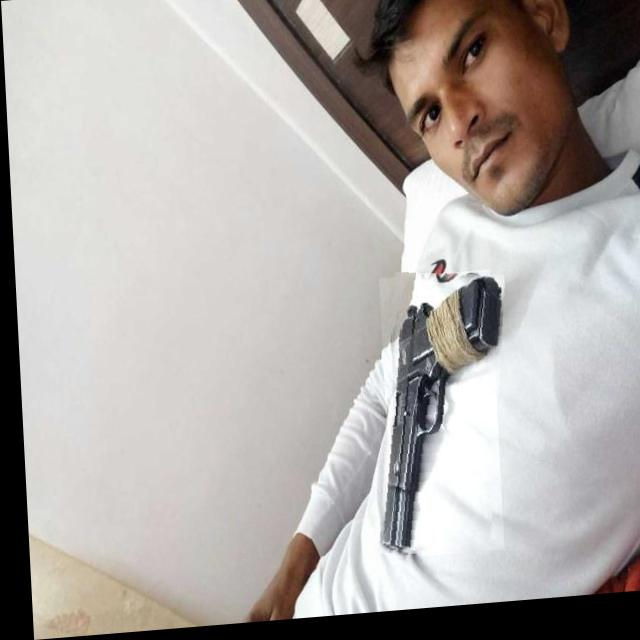handgun: (367, 274, 504, 567)
